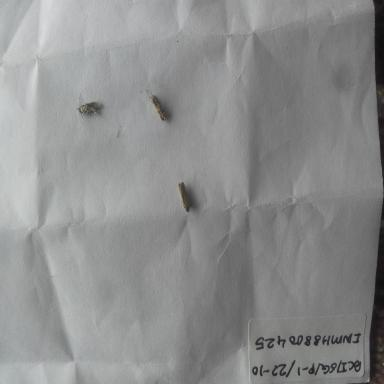pbw: (136, 85, 184, 141), (169, 171, 207, 229), (72, 96, 108, 118)
